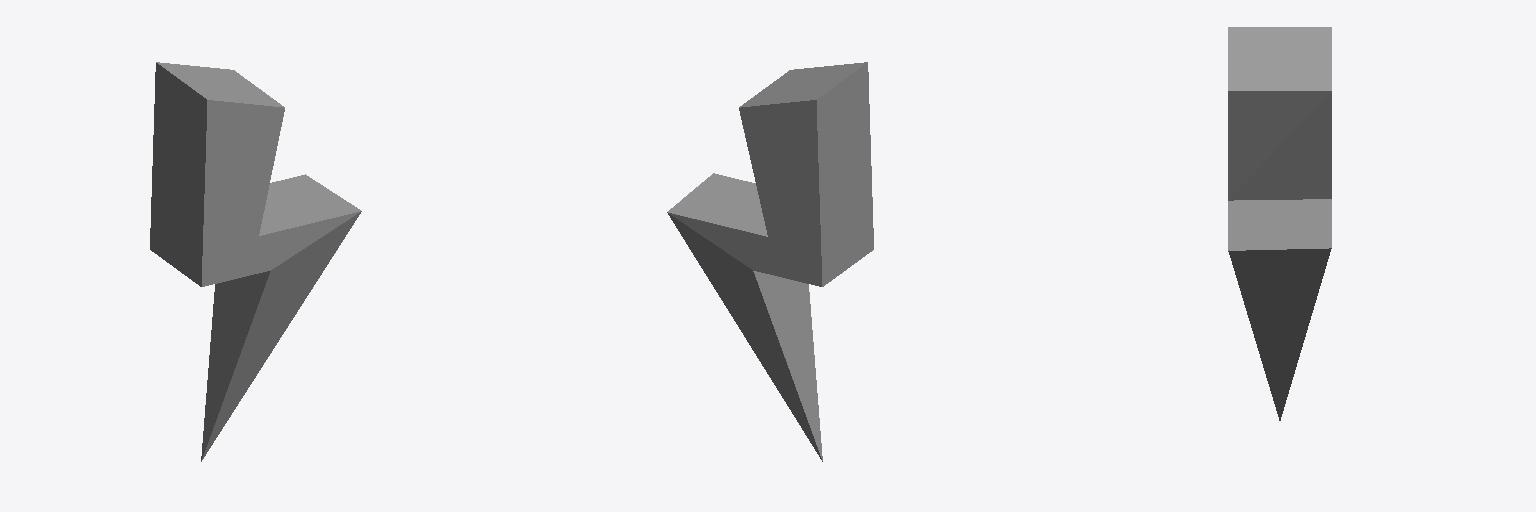
File: energy.obj
The picture shows the model from 3 angles: view 1: azimuth 30°, elevation 25°; view 2: azimuth 150°, elevation 25°; view 3: azimuth 270°, elevation 25°; orthographic projection.
Parts seen in each view (by area): view 1: Cone_Cone.003; view 2: Cone_Cone.003; view 3: Cone_Cone.003.
Part boxes in pixels (left/top/right/bottom): Cone_Cone.003: left=150, top=62, right=361, bottom=461; Cone_Cone.003: left=667, top=62, right=873, bottom=461; Cone_Cone.003: left=1228, top=27, right=1331, bottom=420.
Bounding box in the file's own units: 0.6324 × 1.45 × 0.3523.